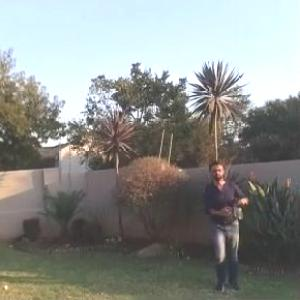follow: (194, 153, 258, 298)
